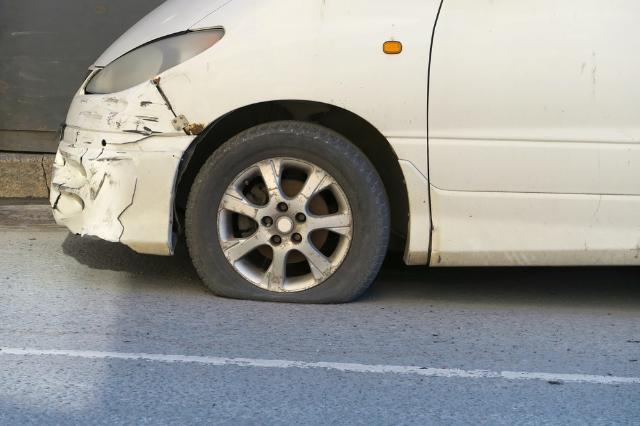crack: (117, 177, 138, 242), (106, 135, 155, 145), (52, 183, 66, 217)
scratch: (52, 91, 164, 232)
tire flat: (185, 120, 392, 305)
